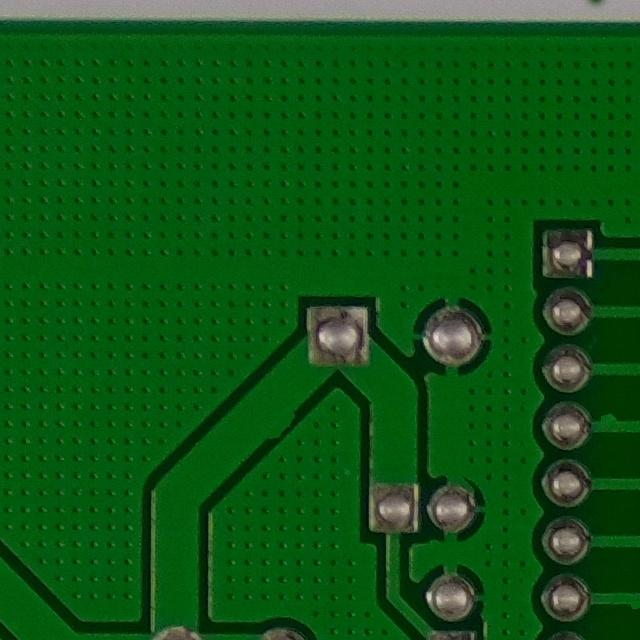spur: (246, 390, 318, 452), (588, 402, 628, 443), (615, 579, 640, 621)
